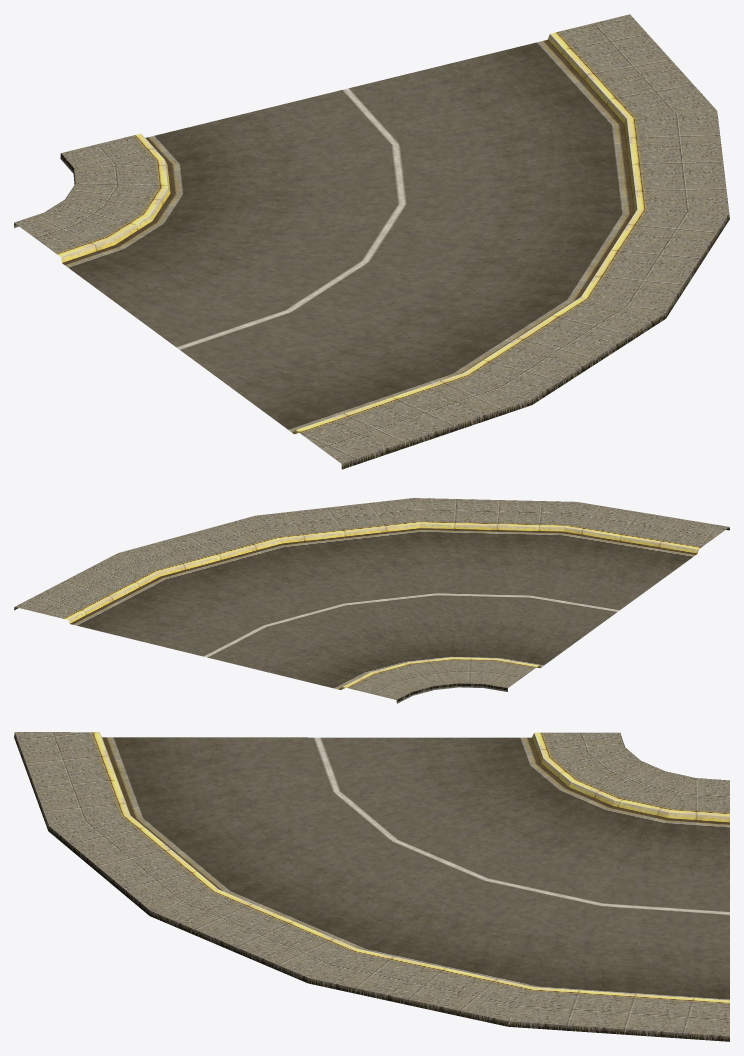
File: Road3_Turn_F.fbx
3 views of the same model, one above another, from view 1: azimuth 30°, elevation 25°; view 2: azimuth 150°, elevation 25°; view 3: azimuth 270°, elevation 25° (orthographic). The views are drawn at different scales.
Parts seen in each view (by area): view 1: Road_Turn_F; view 2: Road_Turn_F; view 3: Road_Turn_F.
Part boxes in pixels (x1=…): Road_Turn_F: x1=14, y1=14, x2=729, y2=469; Road_Turn_F: x1=14, y1=498, x2=729, y2=703; Road_Turn_F: x1=14, y1=732, x2=729, y2=1041.
Size of the model in its own units: 1055 by 8.4 by 1048.
